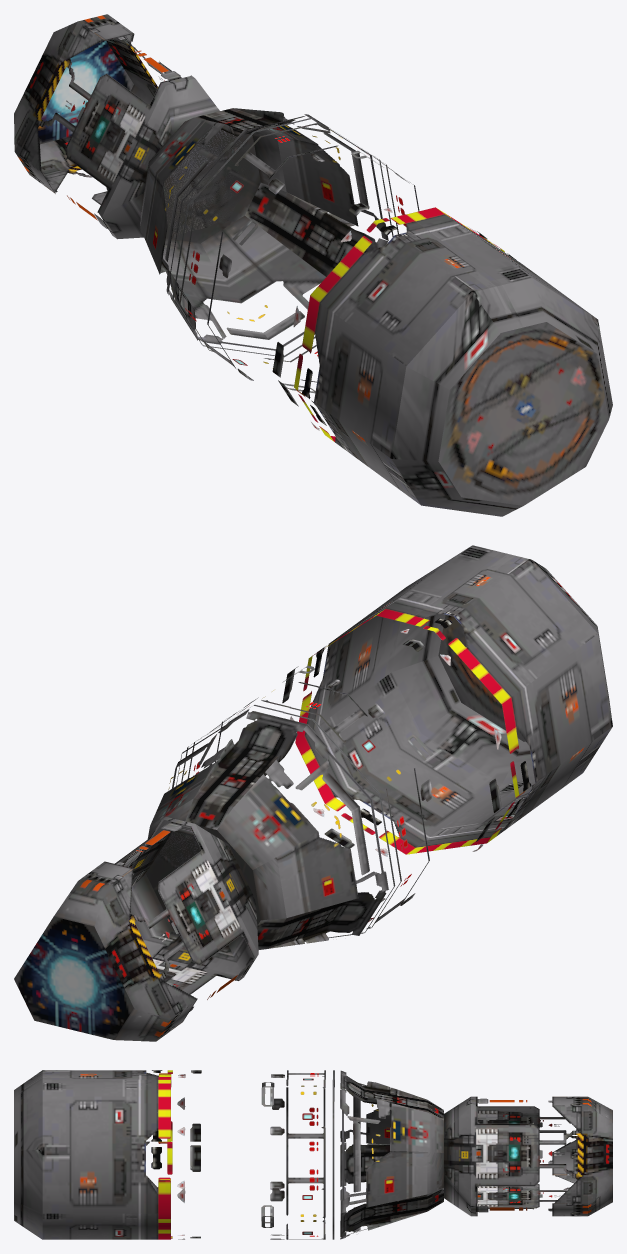
The picture shows the model from 3 angles, top to bottom: view 1: azimuth 30°, elevation 25°; view 2: azimuth 150°, elevation 25°; view 3: azimuth 270°, elevation 25°; orthographic projection. The views are drawn at different scales.
Parts seen in each view (by area): view 1: hw2Shader1; view 2: hw2Shader1; view 3: hw2Shader1.
Part boxes in pixels (bbox=[...]): hw2Shader1: bbox=[14, 14, 612, 516]; hw2Shader1: bbox=[14, 545, 612, 1041]; hw2Shader1: bbox=[14, 1070, 612, 1239].
Bounding box in the file's own units: 4.82 × 4.82 × 16.97.
